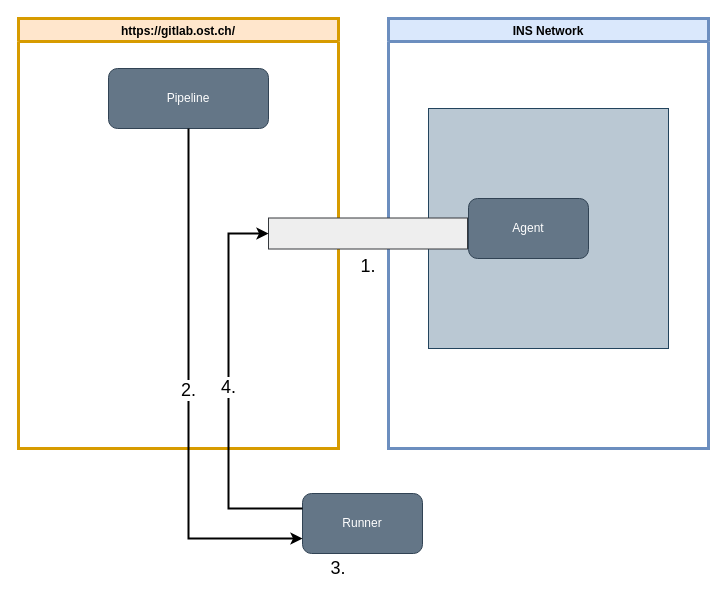
Image size: 727x601. Some labels were removed from this diagram. The shapes that lost their labels are listed below. From the top down, each one's box as (x1, y1, x2, y2) in pixels, then its label:
(268, 217, 468, 249): Tunnel
(428, 108, 668, 348): Cluster
